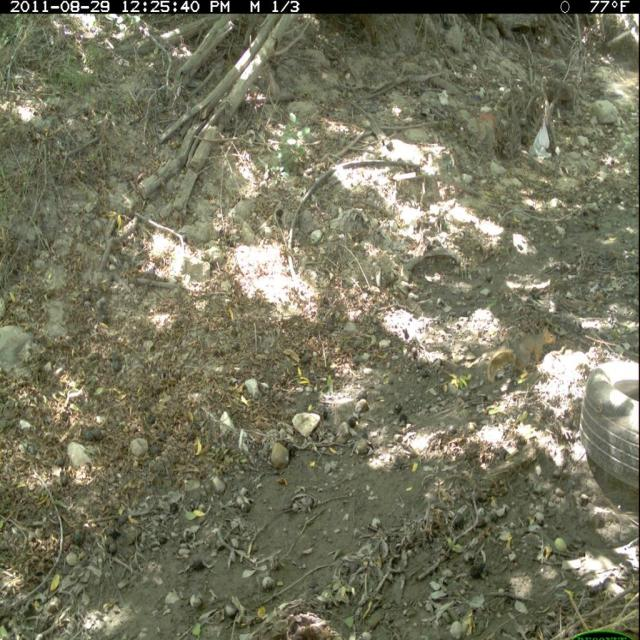squirrel: (483, 324, 561, 384)
